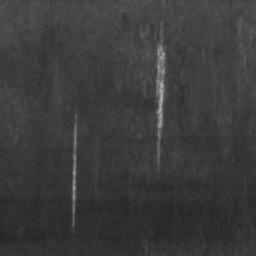Bright scratch: (156, 23, 166, 170), (73, 112, 78, 224)
